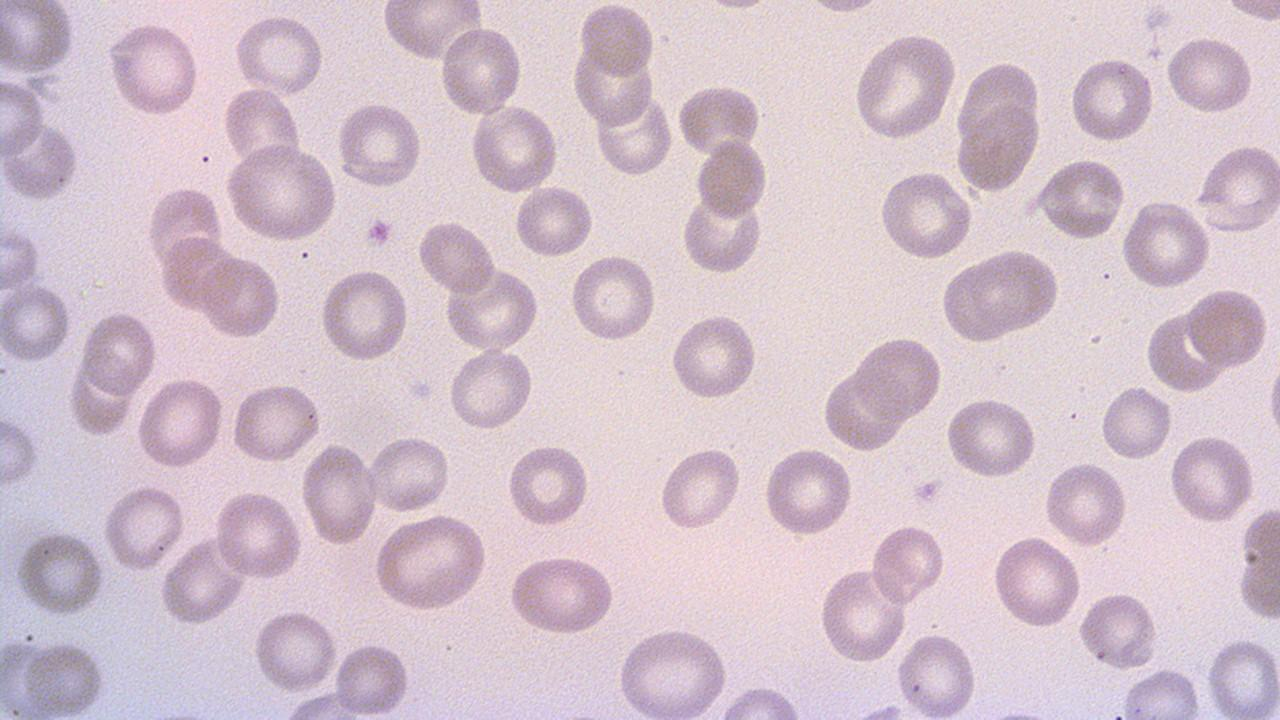Platelets: (363, 216, 394, 249), (912, 479, 946, 506), (406, 379, 434, 401)
RBC: (371, 513, 490, 613), (852, 30, 958, 142), (223, 142, 338, 245), (941, 247, 1061, 343), (614, 623, 733, 717), (504, 552, 618, 636), (106, 20, 200, 120), (816, 564, 908, 666), (990, 532, 1081, 632), (318, 266, 410, 364), (877, 169, 976, 260), (135, 374, 225, 472), (213, 487, 305, 582), (762, 444, 854, 539), (299, 440, 379, 548), (442, 266, 540, 352), (1120, 199, 1212, 290), (942, 395, 1040, 480), (1167, 431, 1255, 525), (14, 528, 106, 617), (468, 103, 560, 192), (568, 252, 657, 344), (438, 24, 525, 118), (232, 10, 324, 98), (852, 332, 944, 420), (952, 102, 1041, 192), (157, 536, 244, 628), (669, 310, 757, 400), (1069, 53, 1155, 145), (252, 606, 340, 695), (1193, 142, 1280, 232), (1164, 32, 1256, 117), (336, 100, 424, 188), (656, 444, 742, 534), (102, 481, 185, 574), (229, 382, 323, 464), (895, 628, 979, 718), (1042, 461, 1130, 546), (1036, 158, 1126, 241), (820, 368, 906, 454), (445, 346, 533, 430), (673, 79, 764, 160), (1186, 286, 1270, 372), (506, 442, 590, 528), (681, 189, 764, 276), (199, 254, 280, 342), (1076, 588, 1160, 672), (368, 432, 451, 515), (592, 94, 674, 178), (1145, 308, 1225, 394), (144, 184, 224, 270), (80, 308, 159, 395), (223, 85, 302, 169), (512, 181, 596, 260), (2, 118, 79, 202), (1204, 633, 1280, 718), (24, 639, 109, 715), (157, 234, 239, 312), (870, 522, 946, 606), (382, 1, 481, 64), (334, 639, 414, 716), (416, 218, 496, 295), (0, 280, 72, 365), (578, 1, 656, 79), (694, 138, 770, 218), (65, 355, 137, 438), (1234, 502, 1280, 626), (0, 0, 76, 74), (1099, 384, 1171, 461), (1119, 664, 1205, 719), (0, 77, 47, 160), (0, 413, 41, 490), (0, 224, 40, 294), (1219, 0, 1279, 26), (1266, 354, 1280, 446)
